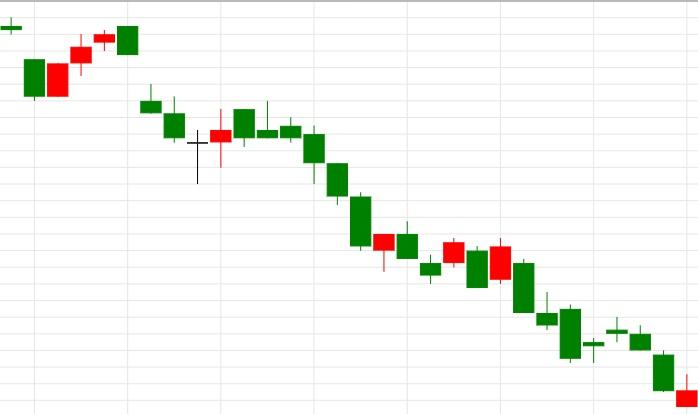bearish_engulfing_fall: (23, 25, 139, 101)
